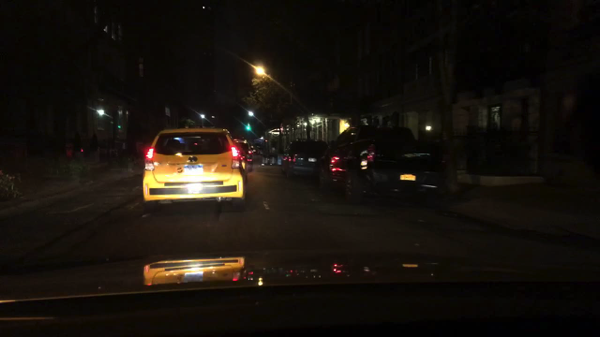car: (141, 128, 248, 214), (279, 139, 328, 180), (234, 139, 252, 172), (249, 142, 262, 154)
person: (72, 129, 85, 163), (87, 132, 99, 163)
traffic light: (245, 123, 251, 132)
truck: (315, 124, 447, 205)
